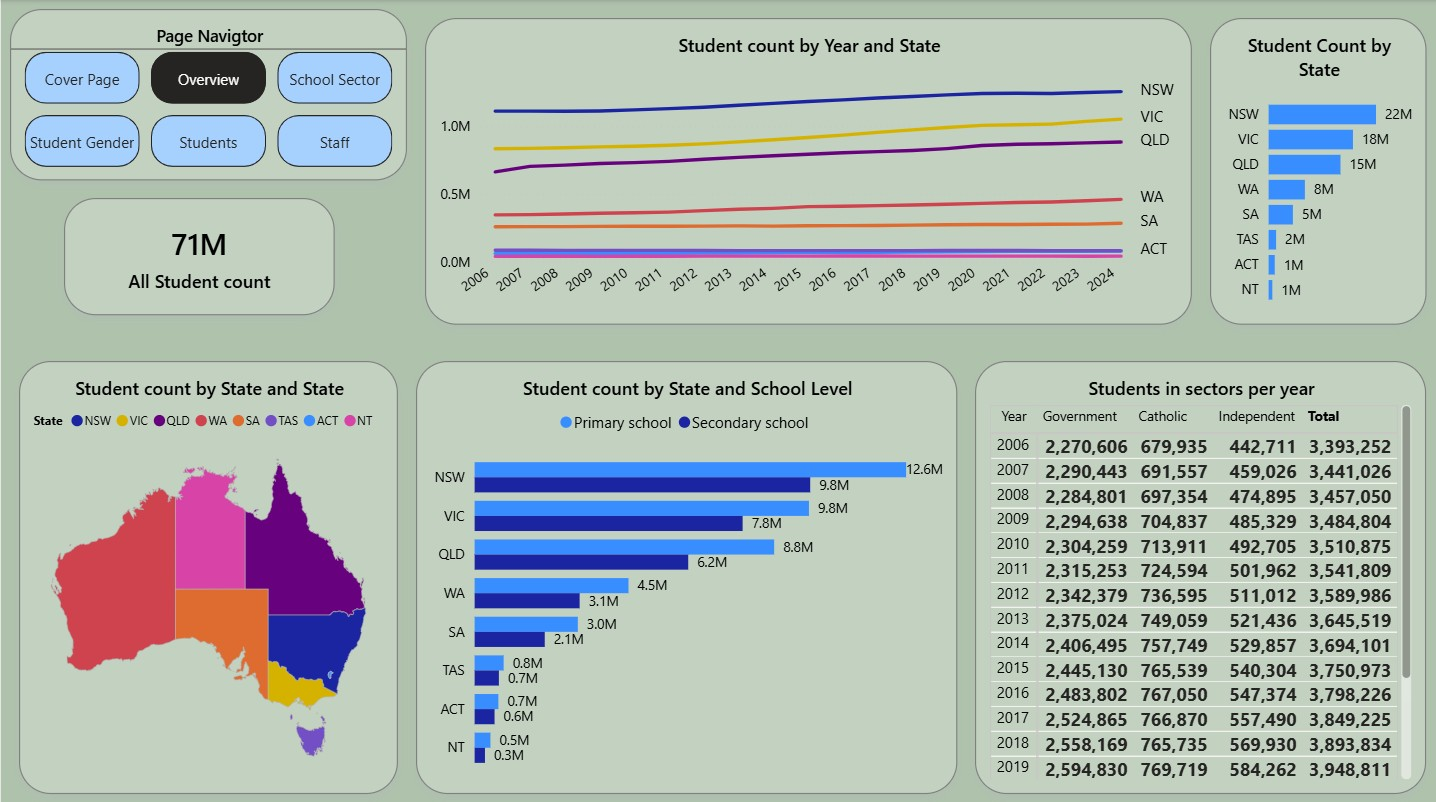

Layout of this report page (visuals, bound fields, positions):
{"tool":"powerbi","page":{"name":"Overview","canvas":[1280,720],"ordinal":1},"visuals":[{"type":"card","fields":{"Values":["All Measures.All Student count"]},"box":[56,176,240,104],"z":0},{"type":"shapeMap","title":"Student count by State and State","fields":{"Value":["All Measures.All Student count"],"Category":["DimState.State"],"Series":["DimState.State"]},"box":[16,320,336,384],"z":1000},{"type":"barChart","title":"Student Count by State","fields":{"Y":["All Measures.All Student count"],"Category":["DimState.State"]},"box":[1072,16,192,272],"z":2000},{"type":"pivotTable","title":"Students in sectors per year","fields":{"Values":["All Measures.All Student count"],"Rows":["DimDates.Year"],"Columns":["DimSchoolSector.School sector"]},"box":[864,320,400,384],"z":3000},{"type":"clusteredBarChart","title":"Student count by State and School Level","fields":{"Category":["DimState.State"],"Y":["All Measures.All Student count"],"Series":["DimSchoolLevel.School Level"]},"box":[368,320,480,384],"z":4000},{"type":"pageNavigator","title":"Page Navigtor","box":[8,8,352,152],"z":5000},{"type":"lineChart","title":"Student count by Year and State","fields":{"Category":["DimDates.Year"],"Series":["DimState.State"],"Y":["All Measures.All Student count"]},"box":[376,16,680,272],"z":6000}]}

Visuals, with their boxes in screenshot pixels (x1, y1, x2, y2), scaled from the page's 1280x720 canvas onto the 1436x802 screenshot:
card - All Measures.All Student count: [63, 196, 332, 312]
"Student count by State and State" shapeMap: [18, 356, 395, 784]
"Student Count by State" barChart: [1203, 18, 1418, 321]
"Students in sectors per year" pivotTable: [969, 356, 1418, 784]
"Student count by State and School Level" clusteredBarChart: [413, 356, 951, 784]
"Page Navigtor" pageNavigator: [9, 9, 404, 178]
"Student count by Year and State" lineChart: [422, 18, 1185, 321]
